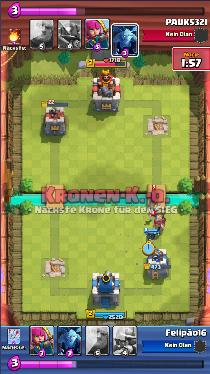ally_mini_pekka: (142, 228, 159, 242)
enemy_knight: (153, 211, 165, 227)
enemy_musketeer: (149, 191, 160, 209)
